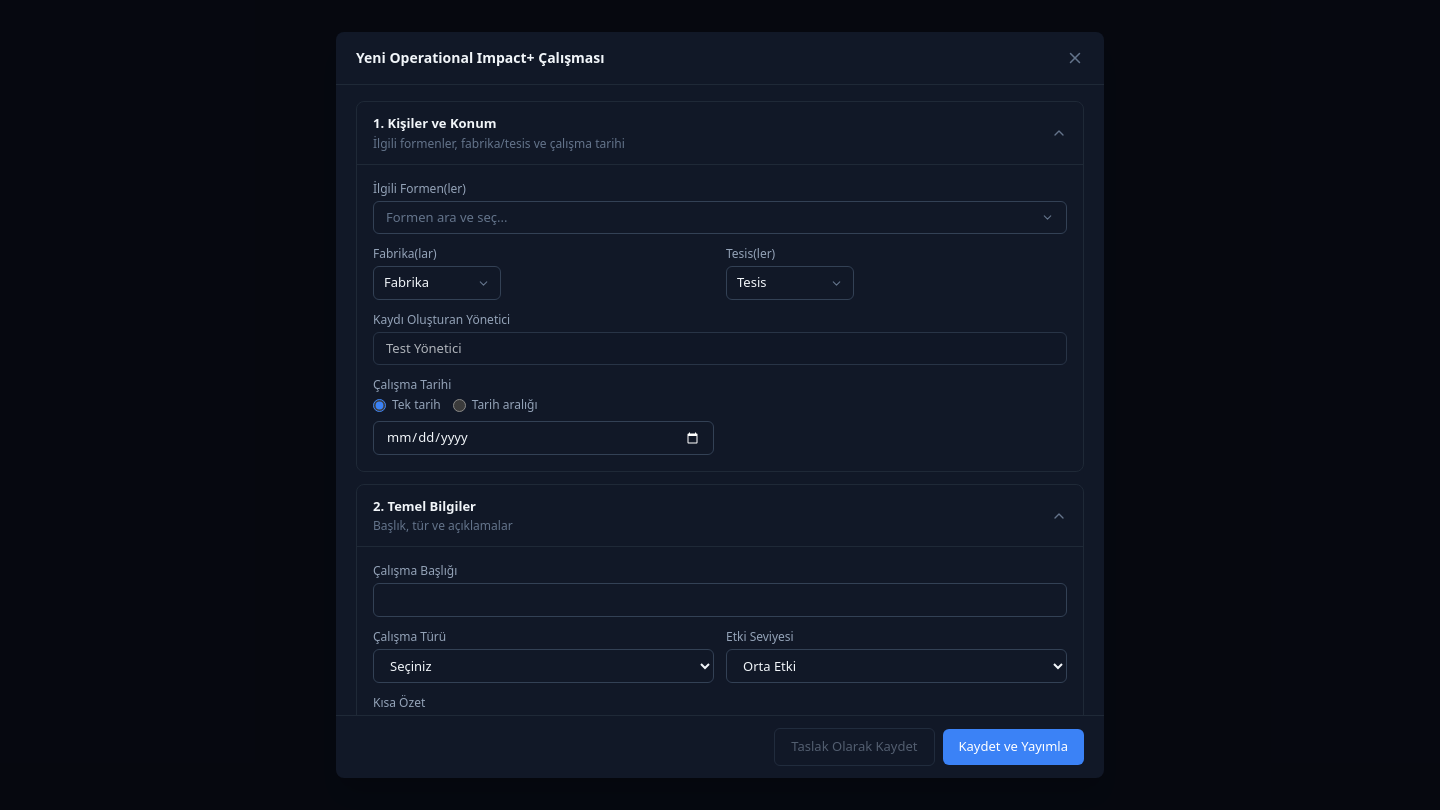
it: ContributionWorkForm › renders server-side field errors and the summary message from a 422 response
Type "x" into the field labelled "Çalışma Başlığı" at (720, 600), box [373, 583, 1067, 617]
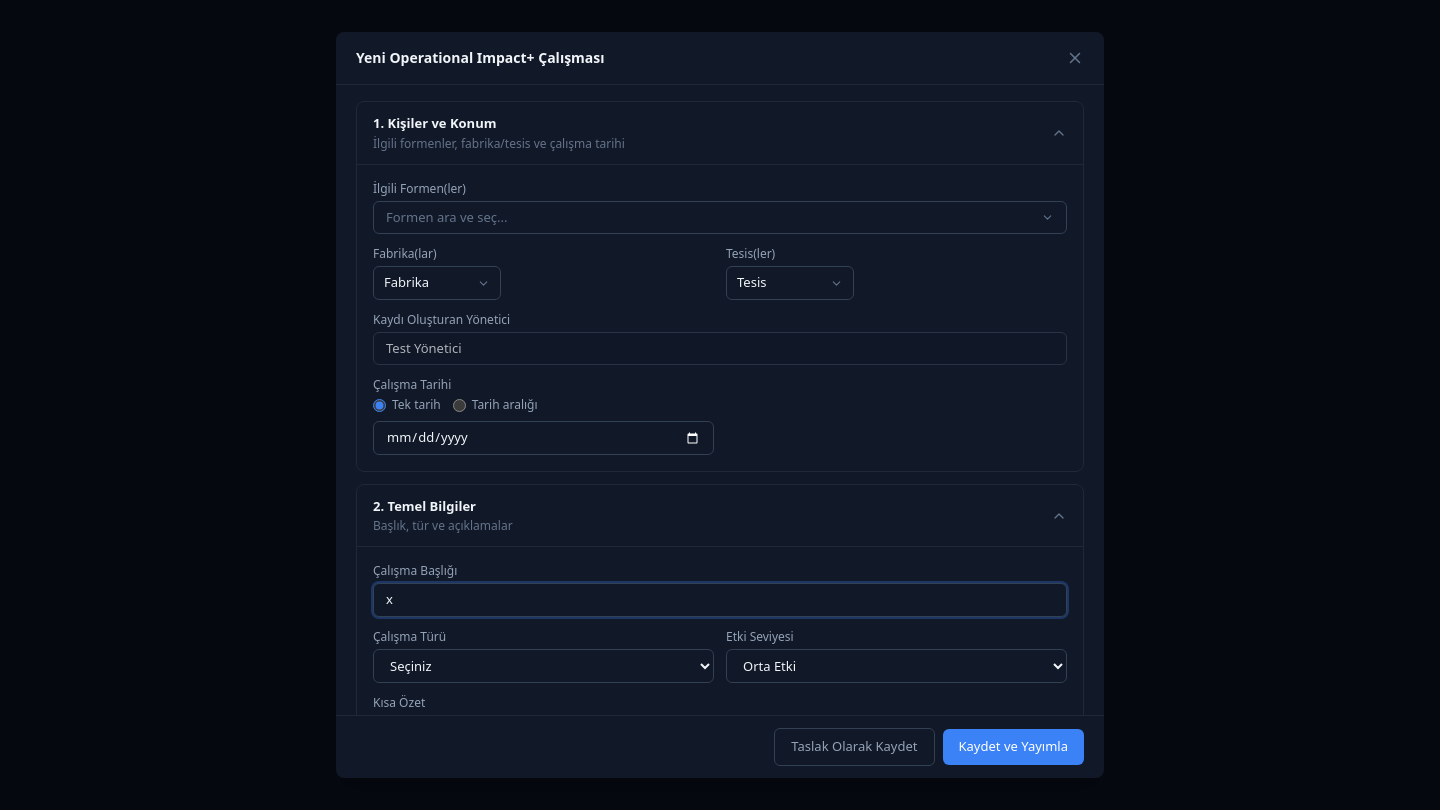
Click the button "Kaydet ve Yayımla" at (1013, 747), box [942, 729, 1084, 765]
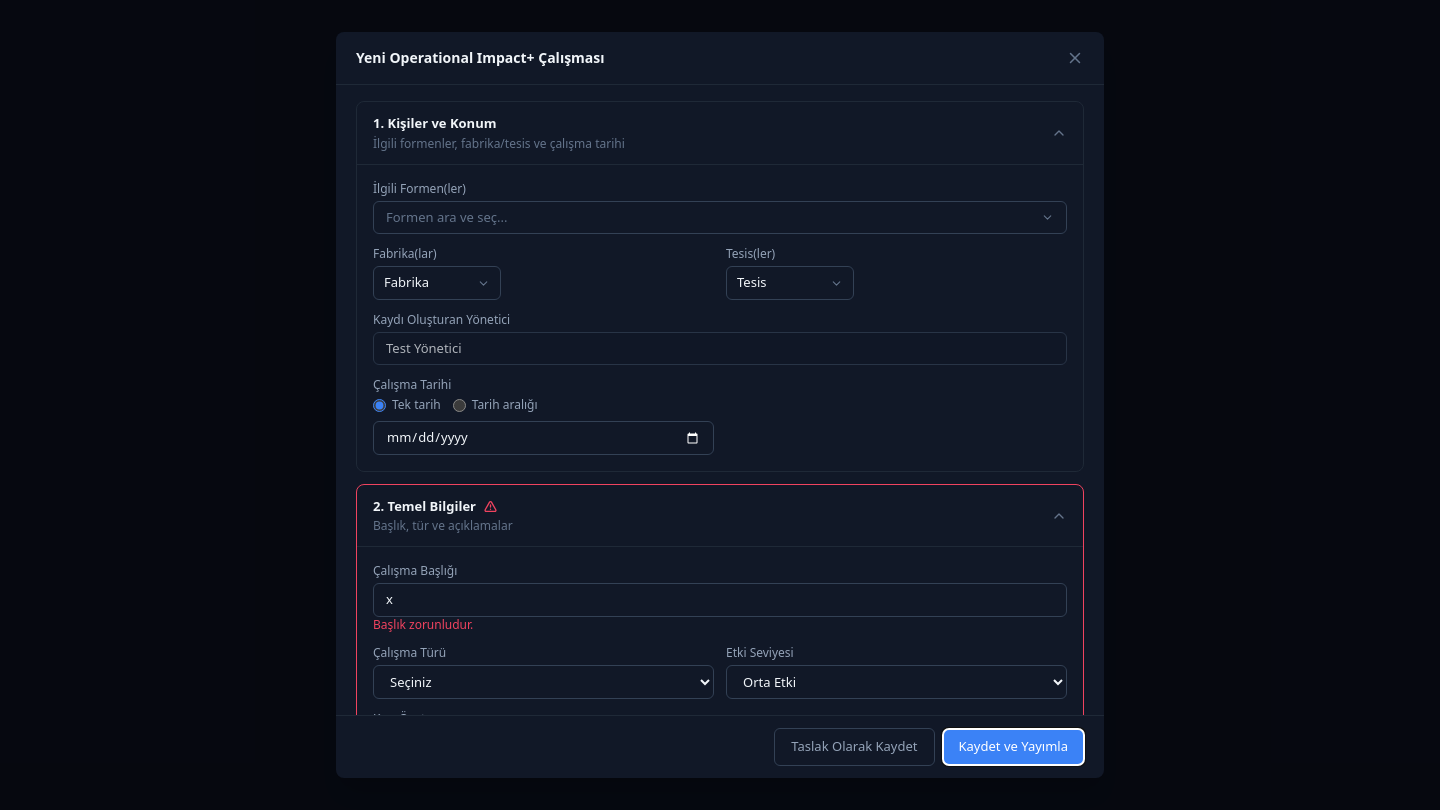
Expected: the text "Başlık zorunludur." is shown, [373, 616, 473, 633]
